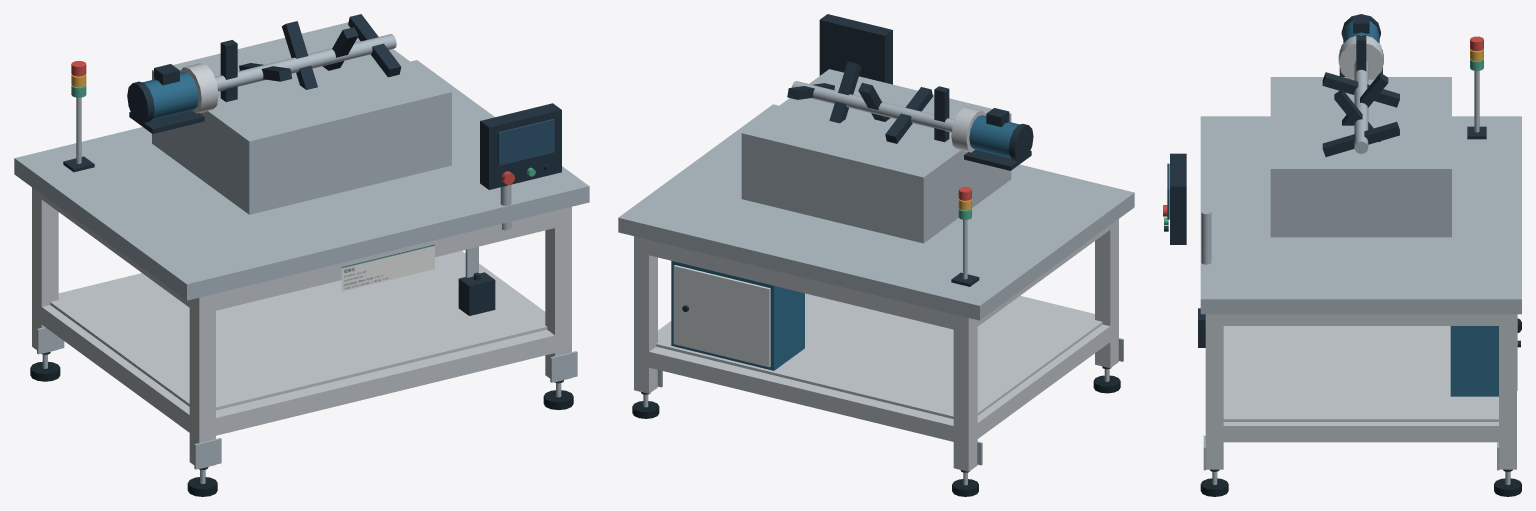
Rendered from internal-mixer-cell.glb.
The picture shows the model from 3 angles, left to right: view 1: azimuth 30°, elevation 25°; view 2: azimuth 150°, elevation 25°; view 3: azimuth 270°, elevation 25°; orthographic projection. The views are drawn at different scales.
Visible parts, largest first — view 1: ClosedMachineBed_28, LowerShelf_29, MixerTrough_48, SlottedExtrusion_22, SlottedExtrusion_23, SlottedExtrusion_8, SlottedExtrusion_24, ConsoleBack_34, SlottedExtrusion_18, SlottedExtrusion_3, OriginalNameplate_42, RotorShaft_49 (+13 smaller); view 2: ClosedMachineBed_28, MixerTrough_48, LowerShelf_29, BackDoor_31, SlottedExtrusion_20, SlottedExtrusion_21, ConsoleBack_34, SlottedExtrusion_3, Cabinet_30, SlottedExtrusion_13, SlottedExtrusion_24, SlottedExtrusion_8 (+9 smaller); view 3: ClosedMachineBed_28, MixerTrough_48, LowerShelf_29, SlottedExtrusion_26, Cabinet_30, SlottedExtrusion_27, SlottedExtrusion_18, SlottedExtrusion_13, ConsoleBack_34, Gearbox_58, RotorShaft_49, MixingBlade_54 (+6 smaller).
Part boxes in pixels (x1=…): ClosedMachineBed_28: x1=14, y1=60, x2=589, y2=300; LowerShelf_29: x1=50, y1=252, x2=547, y2=410; MixerTrough_48: x1=152, y1=22, x2=451, y2=214; SlottedExtrusion_22: x1=207, y1=329, x2=563, y2=437; SlottedExtrusion_23: x1=207, y1=210, x2=562, y2=312; SlottedExtrusion_8: x1=189, y1=293, x2=215, y2=468; SlottedExtrusion_24: x1=37, y1=303, x2=194, y2=435; ConsoleBack_34: x1=480, y1=103, x2=561, y2=189; SlottedExtrusion_18: x1=545, y1=207, x2=571, y2=382; SlottedExtrusion_3: x1=32, y1=187, x2=58, y2=353; OriginalNameplate_42: x1=341, y1=244, x2=434, y2=291; RotorShaft_49: x1=214, y1=34, x2=396, y2=91; ClosedMachineBed_28: x1=618, y1=104, x2=1134, y2=320; MixerTrough_48: x1=741, y1=69, x2=1011, y2=243; LowerShelf_29: x1=656, y1=293, x2=1102, y2=418; BackDoor_31: x1=673, y1=265, x2=770, y2=367; SlottedExtrusion_20: x1=641, y1=346, x2=961, y2=442; SlottedExtrusion_21: x1=645, y1=240, x2=961, y2=331; ConsoleBack_34: x1=819, y1=14, x2=892, y2=84; SlottedExtrusion_3: x1=953, y1=314, x2=977, y2=471; Cabinet_30: x1=671, y1=261, x2=804, y2=370; SlottedExtrusion_13: x1=634, y1=236, x2=657, y2=393; SlottedExtrusion_24: x1=973, y1=323, x2=1114, y2=438; SlottedExtrusion_8: x1=1095, y1=219, x2=1118, y2=368; ClosedMachineBed_28: x1=1200, y1=116, x2=1521, y2=314; MixerTrough_48: x1=1270, y1=77, x2=1451, y2=237; LowerShelf_29: x1=1223, y1=326, x2=1498, y2=421; SlottedExtrusion_26: x1=1215, y1=422, x2=1507, y2=442; Cabinet_30: x1=1450, y1=326, x2=1498, y2=396; SlottedExtrusion_27: x1=1215, y1=314, x2=1507, y2=325; SlottedExtrusion_18: x1=1205, y1=314, x2=1223, y2=469; SlottedExtrusion_13: x1=1499, y1=314, x2=1516, y2=469; ConsoleBack_34: x1=1170, y1=153, x2=1186, y2=244; Gearbox_58: x1=1338, y1=35, x2=1383, y2=79; RotorShaft_49: x1=1354, y1=61, x2=1368, y2=153; MixingBlade_54: x1=1322, y1=121, x2=1399, y2=156.
Size of the model in its own units: 1.55 by 1.34 by 1.29.
11 materials, 1 textured.
